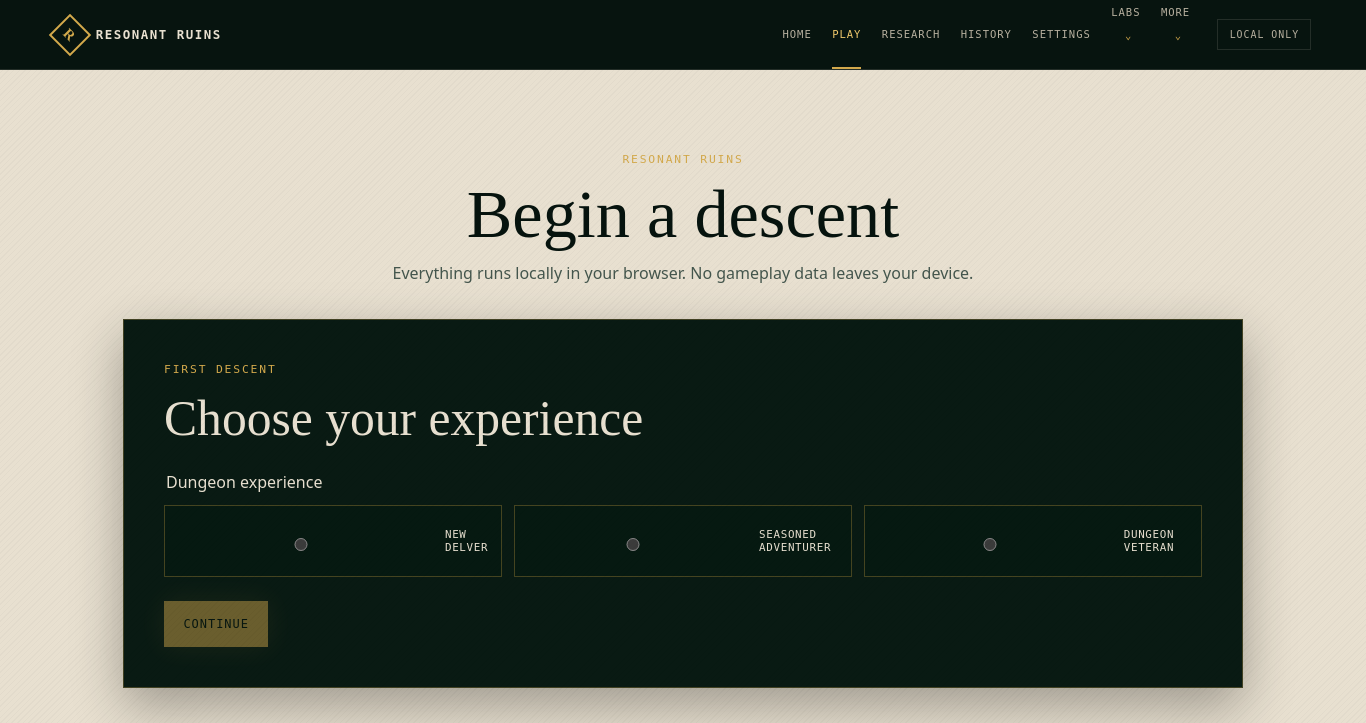
Resonant Ruins dungeon routing, run layout, and pause flow › shows only first-time choice/setup on /dungeon, then Delve saves and navigates
This screenshot has width=1366, height=723.
Check: the heading "Begin a descent" is shown, box [467,176,899,252]
Check: the button "Continue" is disabled, box [164,601,268,647]
Click the radio button labelled "Dungeon Veteran" at (990, 545), box [870,538,1110,551]
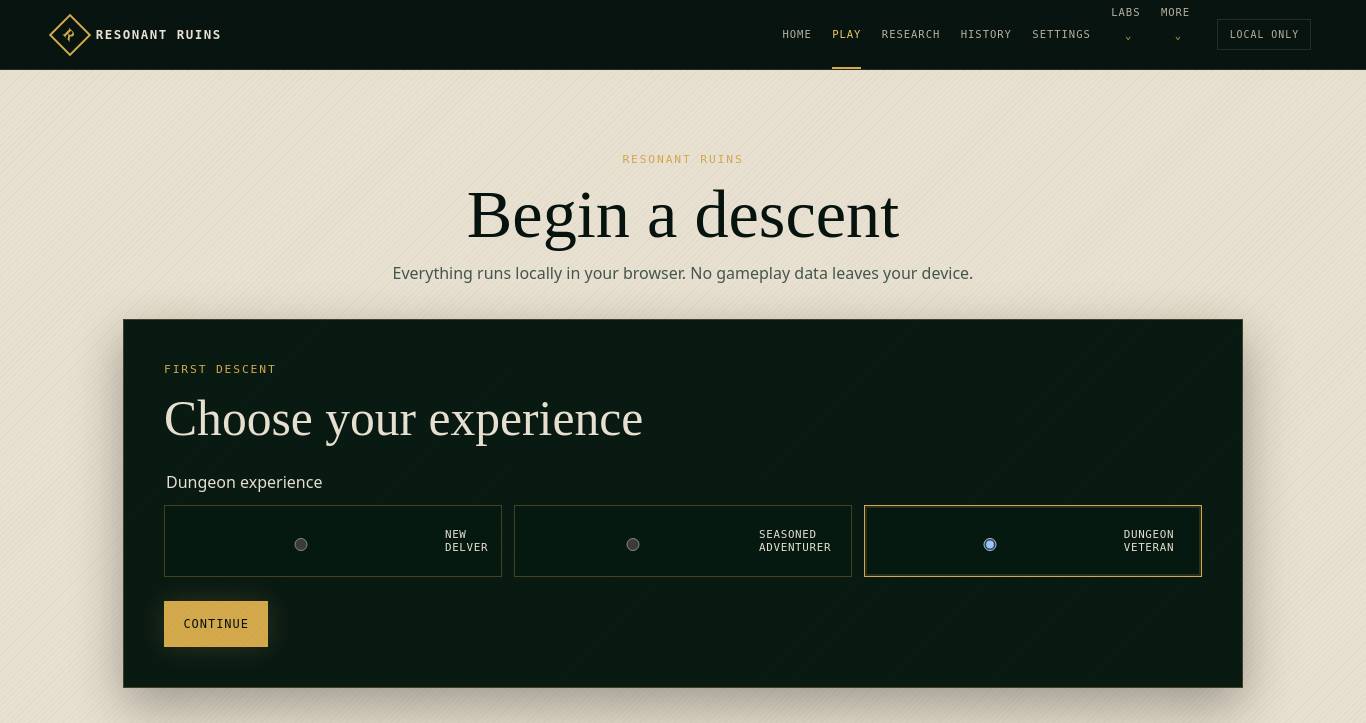
Click the button "Continue" at (216, 624), box [164,601,268,647]
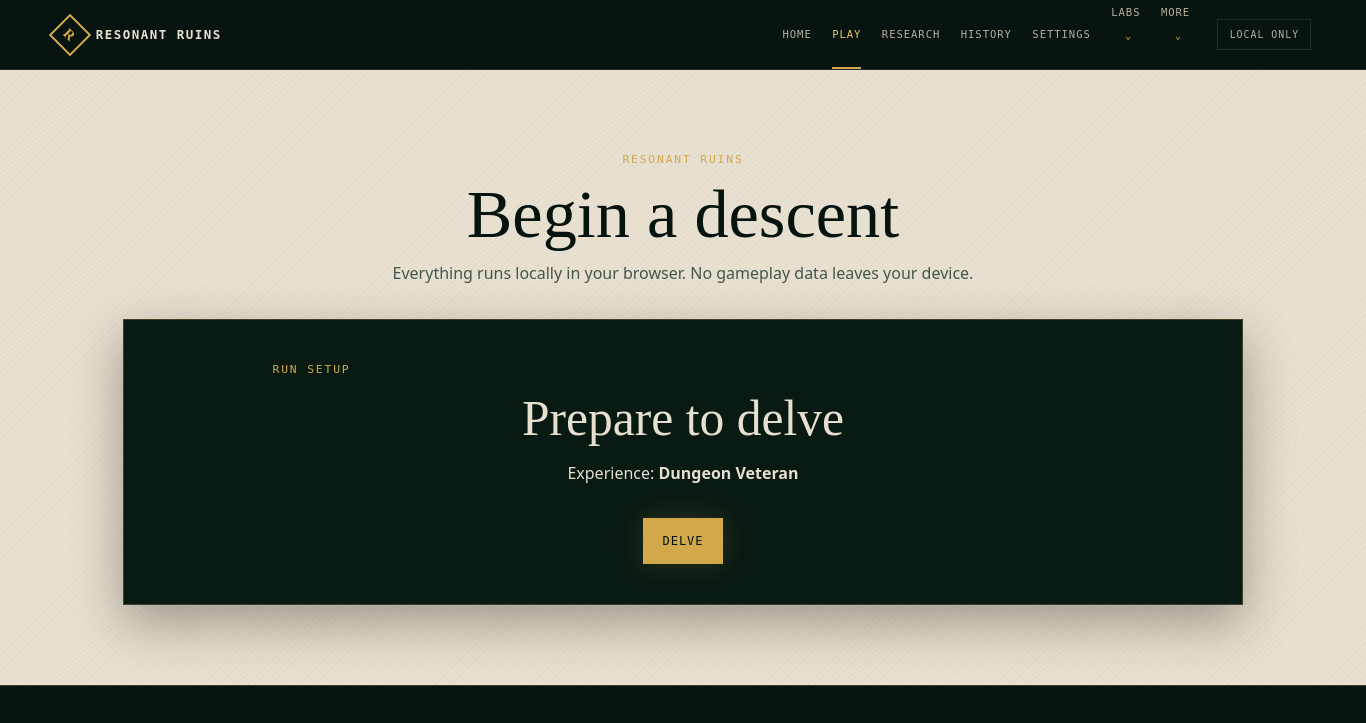
Check: the text "Dungeon Veteran" is shown, box [658,462,799,484]
Check: the text "Experience:" is shown, box [567,462,654,484]
Click the button "Delve" at (683, 541), box [643,518,723,564]
Wait 1 ms
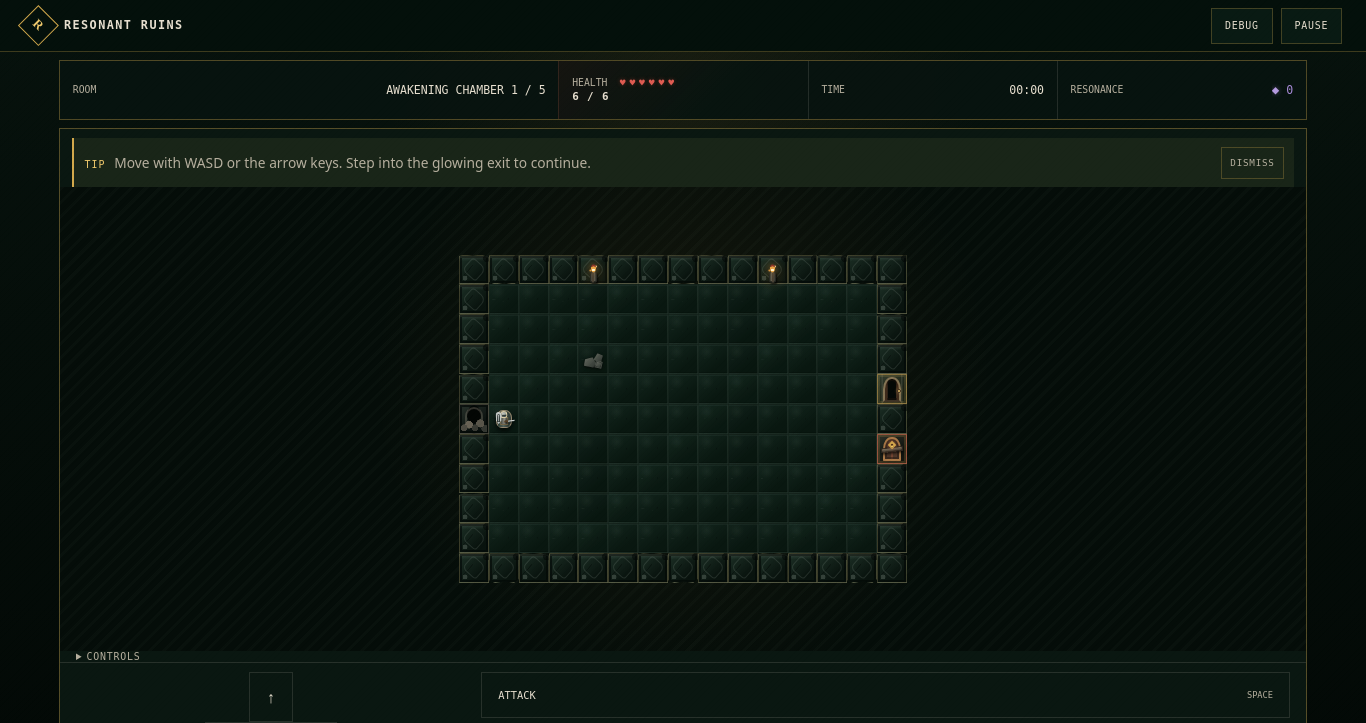
Check: the text "Awakening Chamber 1 / 5" is shown, box [386,83,546,97]
